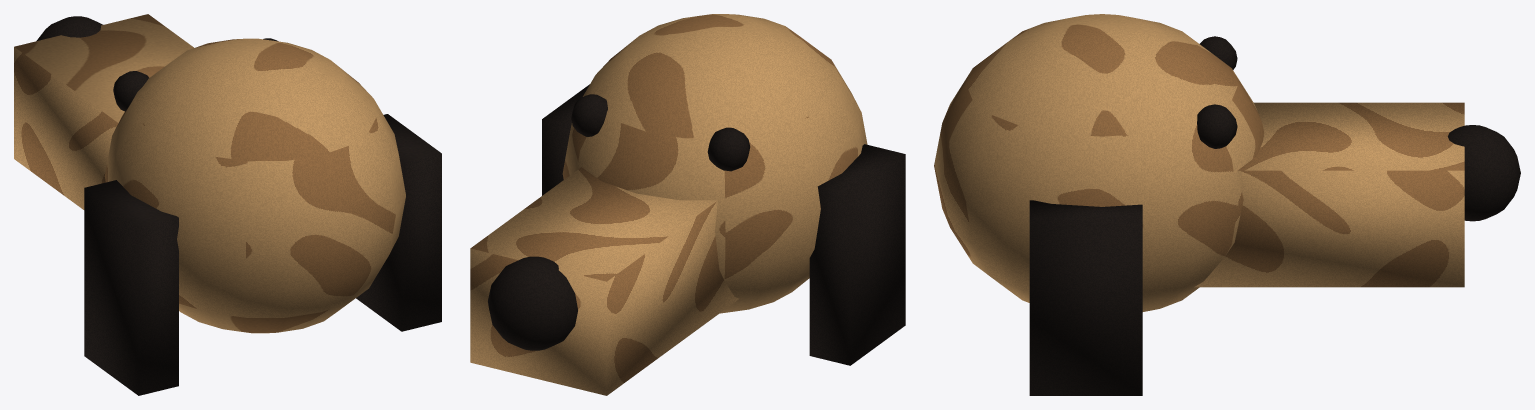
The model's file is cabeza.obj.
3 renders of one model, left to right at view 1: azimuth 30°, elevation 25°; view 2: azimuth 150°, elevation 25°; view 3: azimuth 270°, elevation 25°, orthographic. The views are drawn at different scales.
Parts seen in each view (by area): view 1: cabeza; view 2: cabeza; view 3: cabeza.
Boxes of the visible parts, left/top/right/bottom form: cabeza: left=14, top=14, right=441, bottom=395; cabeza: left=470, top=14, right=905, bottom=395; cabeza: left=934, top=14, right=1520, bottom=395.
Size of the model in its own units: 0.226 by 0.2 by 0.3645.
2 materials, 2 textured.
